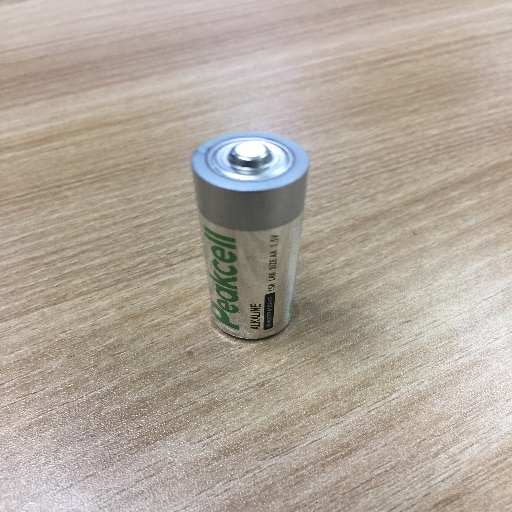Battery_0: (181, 115, 318, 358)
